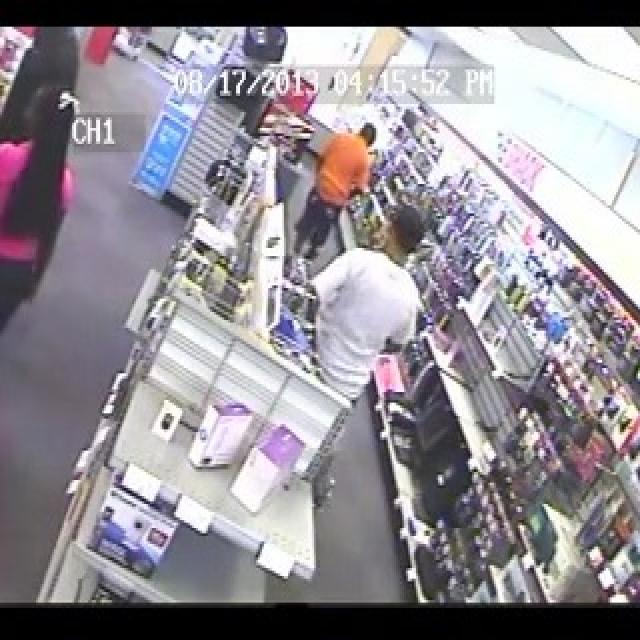normal: (299, 193, 432, 442), (0, 55, 84, 350), (287, 108, 386, 266)
